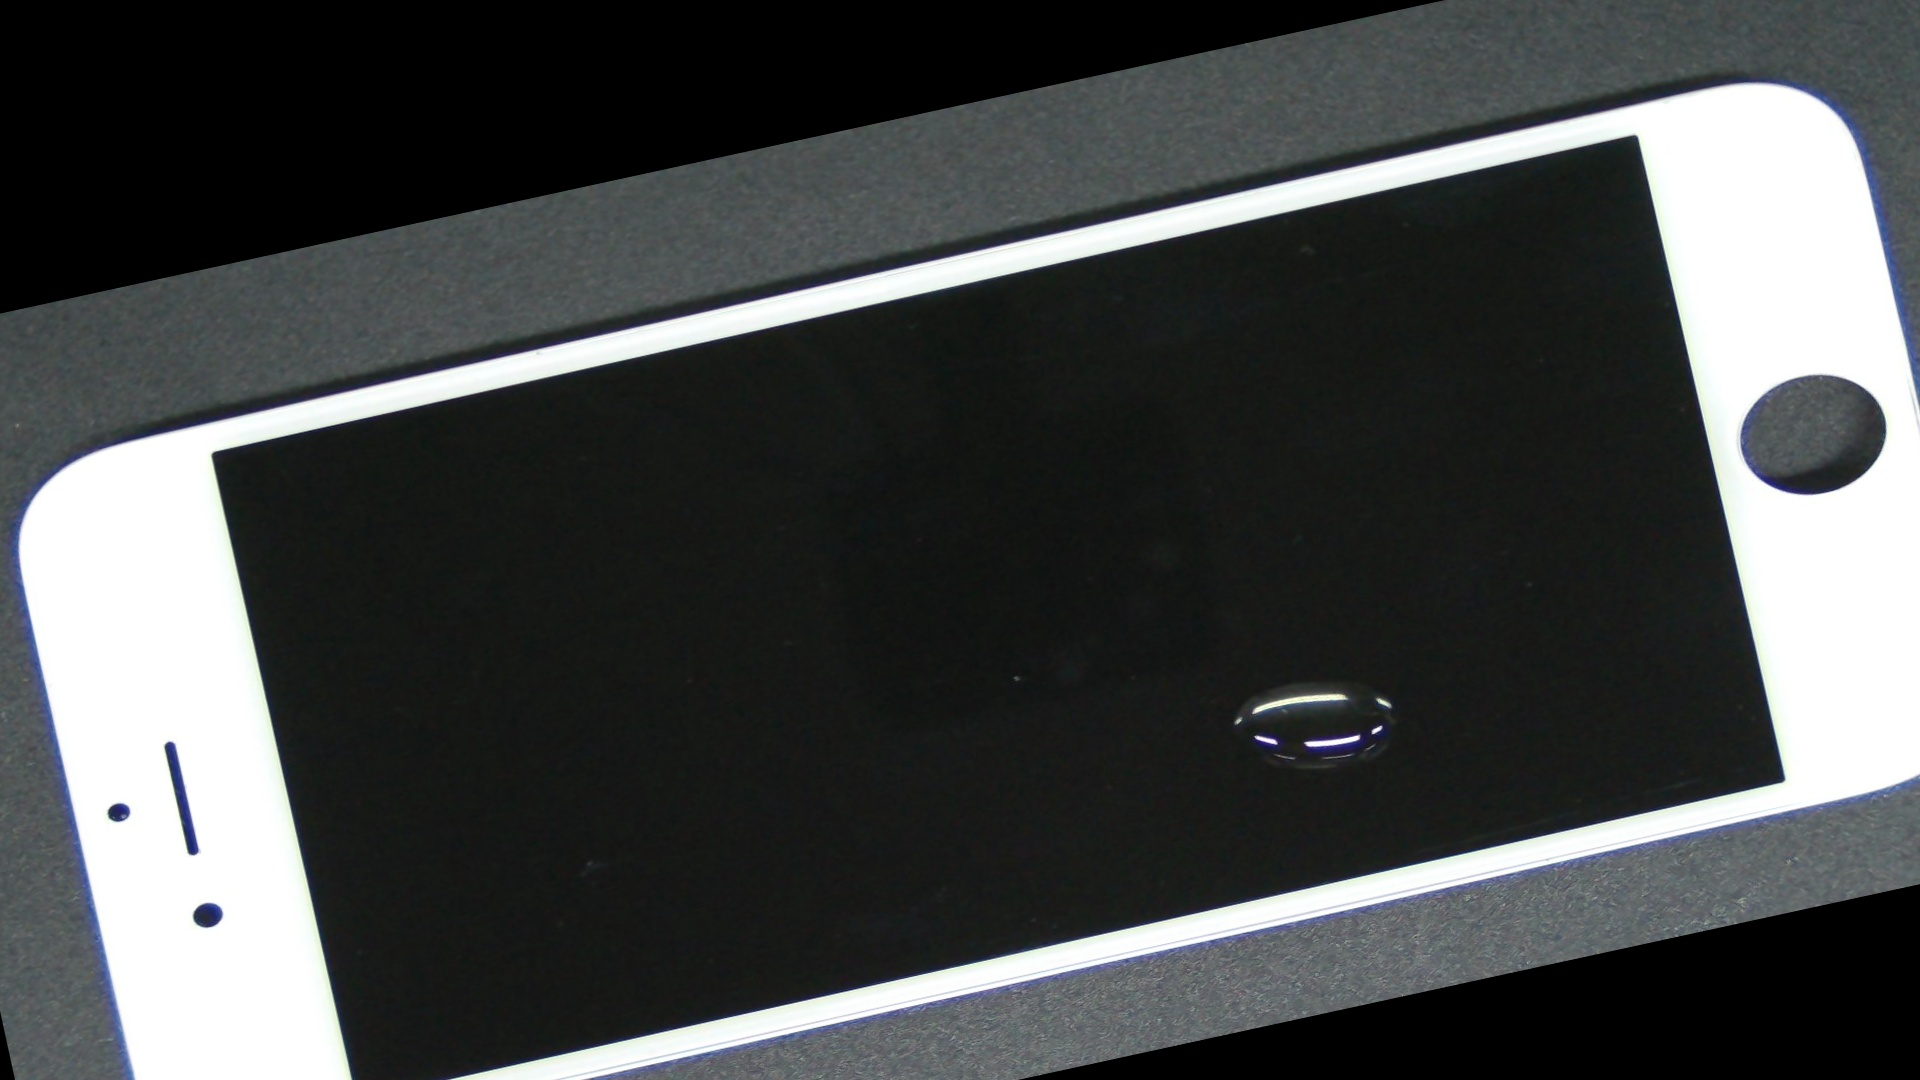oil: (560, 240, 1920, 1080)
